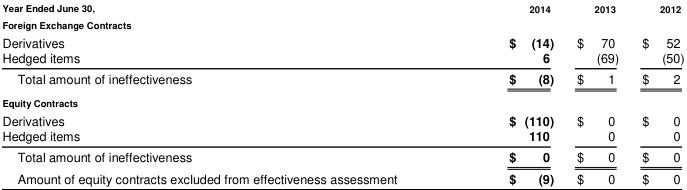table: (1, 1, 683, 186)
table column: (1, 1, 452, 186), (452, 1, 564, 186), (564, 1, 629, 186), (629, 1, 683, 186)
table column header: (1, 1, 683, 16)
table projected row header: (1, 91, 683, 110), (1, 16, 683, 31)
table row: (1, 67, 683, 91), (1, 145, 683, 167), (1, 91, 683, 110), (1, 167, 683, 186), (1, 31, 683, 49), (1, 49, 683, 67), (1, 127, 683, 145), (1, 110, 683, 127), (1, 1, 683, 16), (1, 16, 683, 31)
